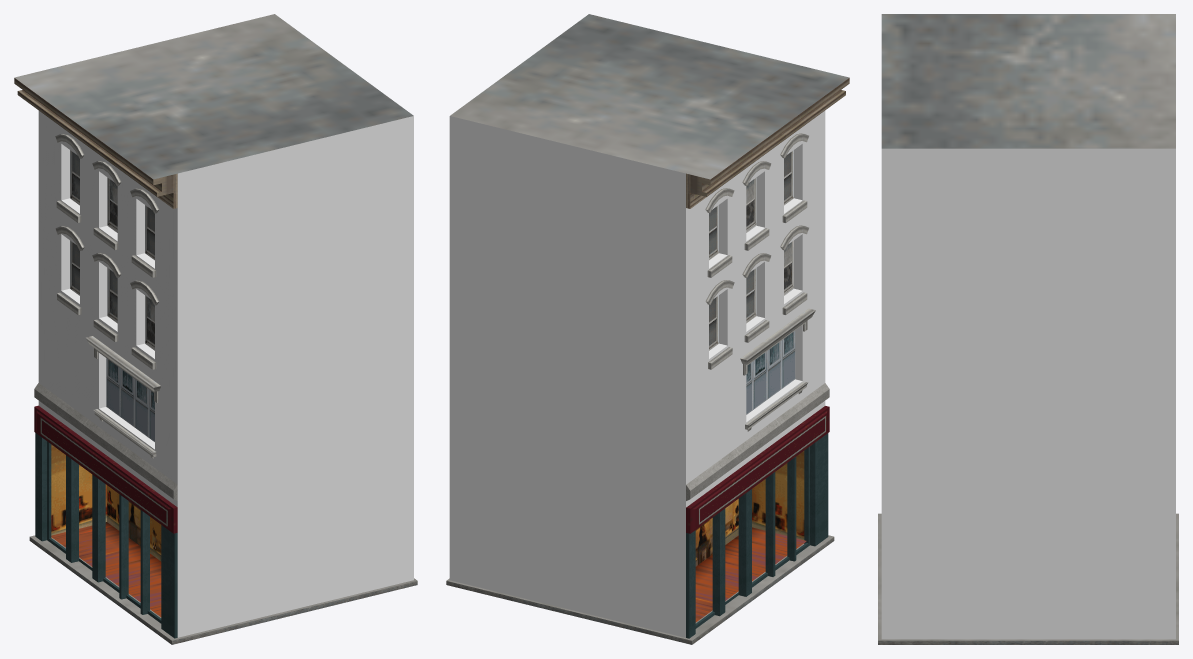
Rendered from Building_K.fbx.
3 renders of one model, left to right at view 1: azimuth 30°, elevation 25°; view 2: azimuth 150°, elevation 25°; view 3: azimuth 270°, elevation 25°, orthographic. The views are drawn at different scales.
Visible parts, largest first — view 1: City_Market_01:Building K; view 2: City_Market_01:Building K; view 3: City_Market_01:Building K.
Boxes of the visible parts, x1,y1,x2,y2 form: City_Market_01:Building K: (14,14,417,644); City_Market_01:Building K: (446,14,849,644); City_Market_01:Building K: (878,14,1178,644).
Bounding box in the file's own units: 6.67 × 11.37 × 6.26.
